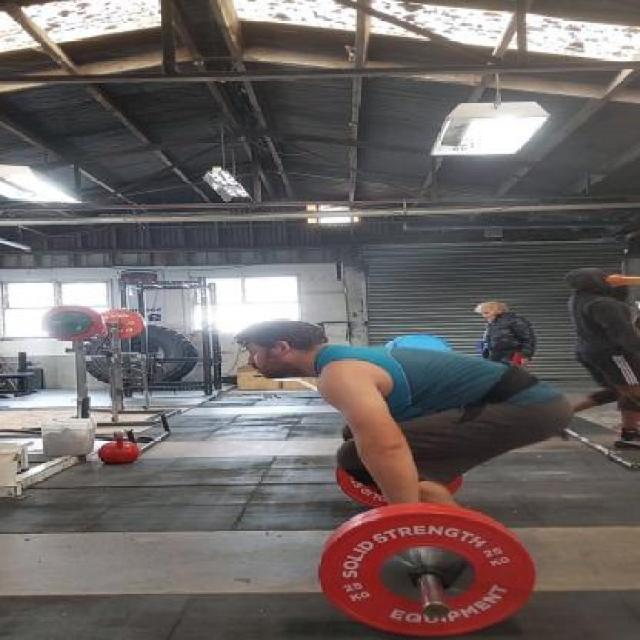Barbell: (413, 594, 455, 622)
